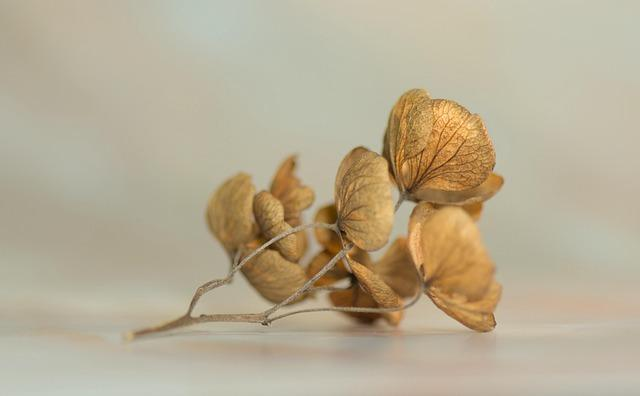Non_Gorille: (144, 78, 514, 352)
